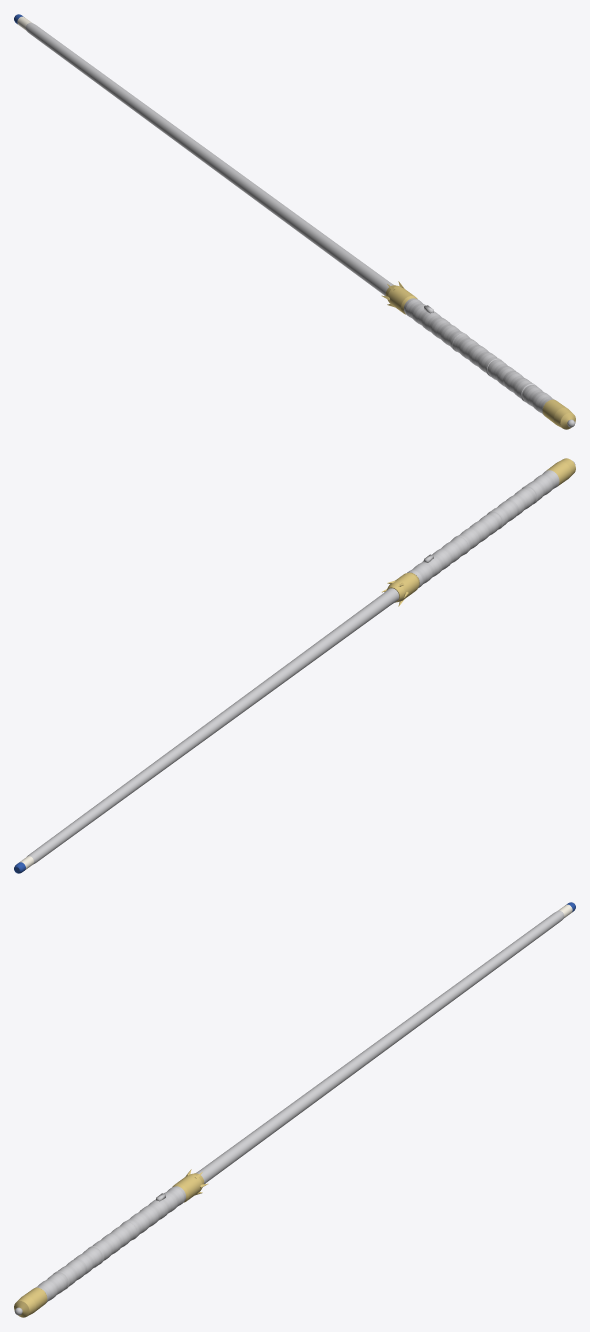
File: cue_ionblade.glb
The picture shows the model from 3 angles, top to bottom: view 1: azimuth 30°, elevation 25°; view 2: azimuth 150°, elevation 25°; view 3: azimuth 330°, elevation 25°; orthographic projection.
Visible parts, largest first — view 1: blade, grip, metal; view 2: blade, grip, metal; view 3: blade, grip, metal.
Part boxes in pixels (x1=…): blade: x1=25, y1=22, x2=394, y2=296; grip: x1=404, y1=298, x2=554, y2=415; metal: x1=381, y1=281, x2=575, y2=429; blade: x1=27, y1=588, x2=399, y2=864; grip: x1=407, y1=470, x2=559, y2=588; metal: x1=381, y1=458, x2=575, y2=606; blade: x1=195, y1=910, x2=564, y2=1184; grip: x1=35, y1=1186, x2=185, y2=1303; metal: x1=14, y1=1169, x2=208, y2=1317.
Bounding box in the file's own units: 0.0354 × 0.0318 × 1.46.
